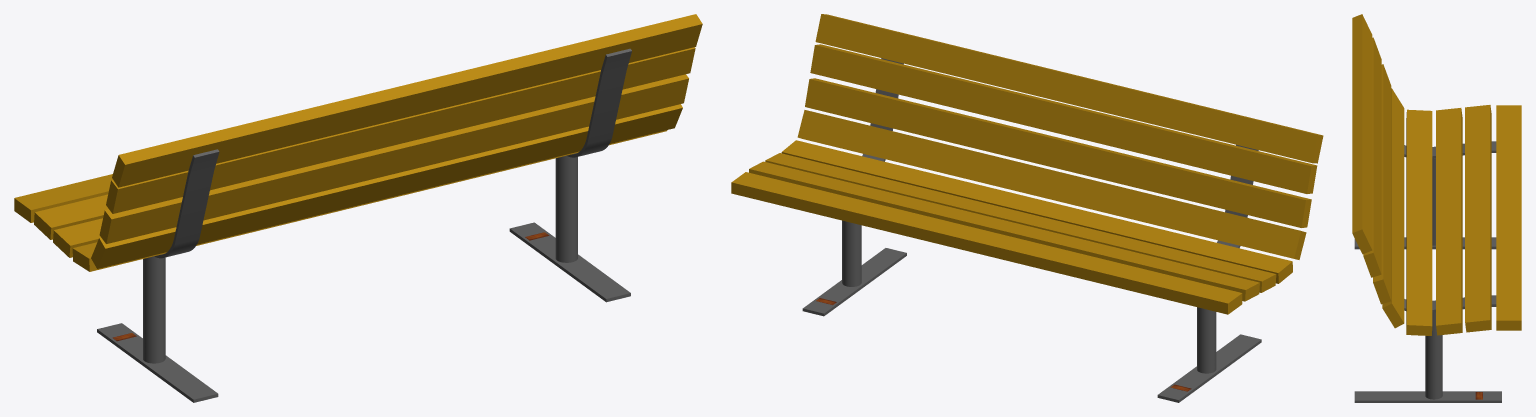
3 renders of one model, left to right at view 1: azimuth 30°, elevation 25°; view 2: azimuth 150°, elevation 25°; view 3: azimuth 270°, elevation 25°, orthographic. The views are drawn at different scales.
Parts seen in each view (by area): view 1: mesh6_mesh6-geometry, mesh5_mesh5-geometry, mesh2_mesh2-geometry, mesh8_mesh8-geometry, mesh17_mesh17-geometry, mesh24_mesh24-geometry, mesh26_mesh26-geometry, mesh19_mesh19-geometry, mesh18_mesh18-geometry, mesh25_mesh25-geometry, mesh3_mesh3-geometry, mesh4_mesh4-geometry (+2 smaller); view 2: mesh2_mesh2-geometry, mesh5_mesh5-geometry, mesh6_mesh6-geometry, mesh8_mesh8-geometry, mesh3_mesh3-geometry, mesh1_mesh1-geometry, mesh4_mesh4-geometry, mesh7_mesh7-geometry, mesh25_mesh25-geometry, mesh18_mesh18-geometry, mesh26_mesh26-geometry, mesh19_mesh19-geometry; view 3: mesh1_mesh1-geometry, mesh4_mesh4-geometry, mesh7_mesh7-geometry, mesh3_mesh3-geometry, mesh6_mesh6-geometry, mesh8_mesh8-geometry, mesh5_mesh5-geometry, mesh2_mesh2-geometry, mesh18_mesh18-geometry, mesh19_mesh19-geometry, mesh26_mesh26-geometry, mesh25_mesh25-geometry (+2 smaller).
Part boxes in pixels (left/top/right/bottom): mesh6_mesh6-geometry: left=112, top=14, right=702, bottom=187; mesh5_mesh5-geometry: left=99, top=74, right=688, bottom=243; mesh2_mesh2-geometry: left=106, top=47, right=695, bottom=213; mesh8_mesh8-geometry: left=91, top=104, right=682, bottom=268; mesh17_mesh17-geometry: left=567, top=48, right=631, bottom=157; mesh24_mesh24-geometry: left=154, top=149, right=219, bottom=258; mesh26_mesh26-geometry: left=143, top=256, right=165, bottom=363; mesh19_mesh19-geometry: left=555, top=155, right=577, bottom=262; mesh18_mesh18-geometry: left=509, top=222, right=630, bottom=302; mesh25_mesh25-geometry: left=97, top=323, right=218, bottom=402; mesh3_mesh3-geometry: left=14, top=174, right=112, bottom=222; mesh4_mesh4-geometry: left=34, top=194, right=108, bottom=239; mesh2_mesh2-geometry: left=810, top=44, right=1317, bottom=193; mesh5_mesh5-geometry: left=805, top=78, right=1311, bottom=227; mesh6_mesh6-geometry: left=815, top=14, right=1323, bottom=163; mesh8_mesh8-geometry: left=797, top=110, right=1306, bottom=259; mesh3_mesh3-geometry: left=731, top=172, right=1242, bottom=314; mesh1_mesh1-geometry: left=781, top=140, right=1292, bottom=283; mesh4_mesh4-geometry: left=749, top=161, right=1259, bottom=301; mesh7_mesh7-geometry: left=765, top=153, right=1276, bottom=292; mesh25_mesh25-geometry: left=1157, top=334, right=1261, bottom=402; mesh18_mesh18-geometry: left=802, top=248, right=906, bottom=316; mesh26_mesh26-geometry: left=1197, top=307, right=1216, bottom=373; mesh19_mesh19-geometry: left=842, top=220, right=861, bottom=286; mesh1_mesh1-geometry: left=1406, top=109, right=1432, bottom=335; mesh4_mesh4-geometry: left=1465, top=105, right=1491, bottom=332; mesh7_mesh7-geometry: left=1436, top=108, right=1462, bottom=335; mesh3_mesh3-geometry: left=1496, top=105, right=1521, bottom=330; mesh6_mesh6-geometry: left=1352, top=14, right=1372, bottom=254; mesh8_mesh8-geometry: left=1382, top=88, right=1404, bottom=328; mesh5_mesh5-geometry: left=1373, top=64, right=1391, bottom=304; mesh2_mesh2-geometry: left=1363, top=37, right=1381, bottom=277; mesh18_mesh18-geometry: left=1354, top=391, right=1501, bottom=402; mesh19_mesh19-geometry: left=1425, top=312, right=1442, bottom=399; mesh26_mesh26-geometry: left=1432, top=158, right=1435, bottom=245; mesh25_mesh25-geometry: left=1354, top=237, right=1496, bottom=249.
Size of the model in its own units: 0.8778 by 0.3798 by 0.2919.
